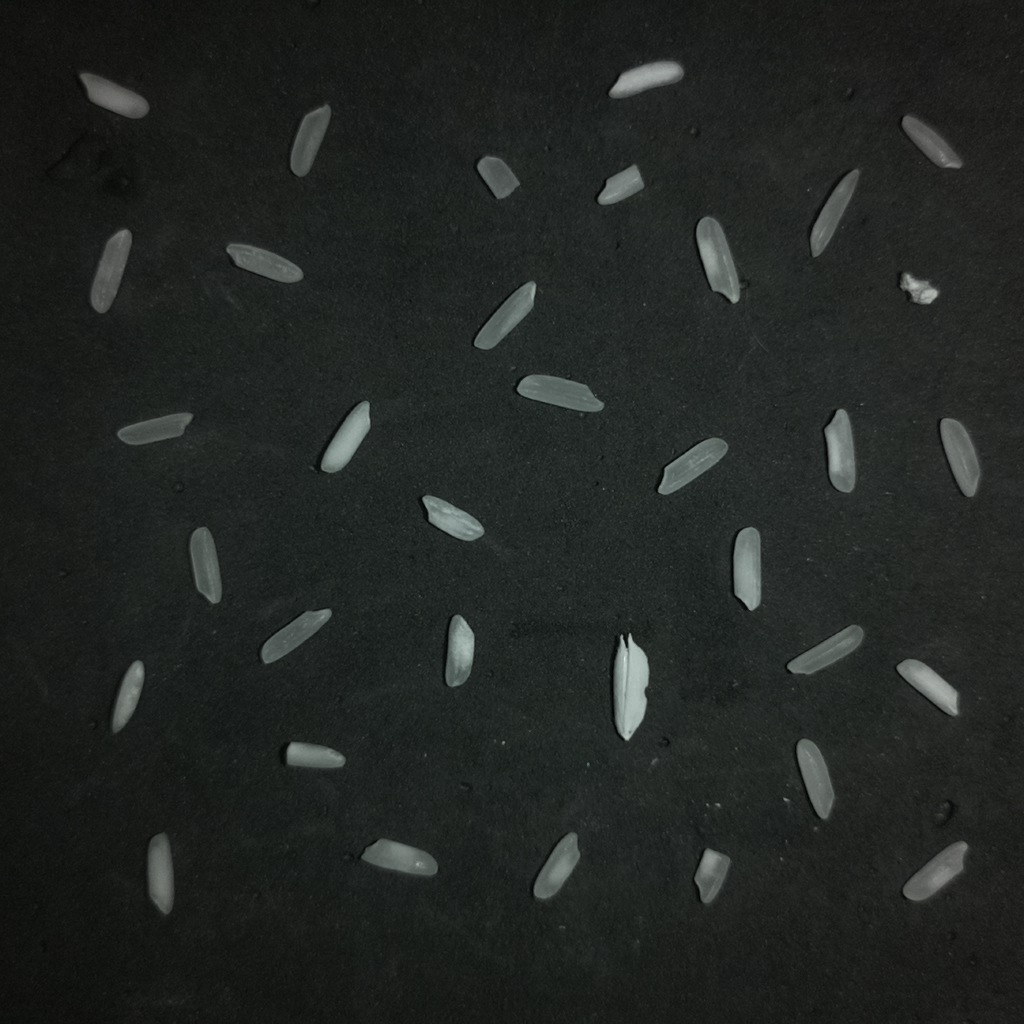broken: (476, 155, 519, 199)
chalky: (902, 841, 968, 901), (696, 216, 740, 302), (320, 400, 369, 472), (90, 229, 132, 313), (896, 659, 958, 715), (78, 72, 148, 118), (533, 832, 579, 899), (226, 243, 303, 283), (421, 495, 483, 541), (361, 839, 437, 876), (608, 61, 683, 98), (824, 409, 856, 493), (111, 660, 144, 733), (733, 527, 761, 610), (445, 614, 475, 687), (147, 833, 174, 914), (694, 848, 730, 903), (597, 164, 644, 204), (285, 742, 345, 769)
foreign: (613, 634, 648, 740), (900, 272, 938, 304)
whole: (810, 169, 858, 256), (474, 282, 535, 349), (658, 437, 727, 494), (260, 608, 331, 663), (787, 625, 863, 674), (516, 374, 603, 411), (901, 116, 962, 168), (940, 418, 979, 496), (796, 738, 833, 819), (290, 104, 331, 176), (117, 413, 192, 445), (190, 526, 221, 603)
